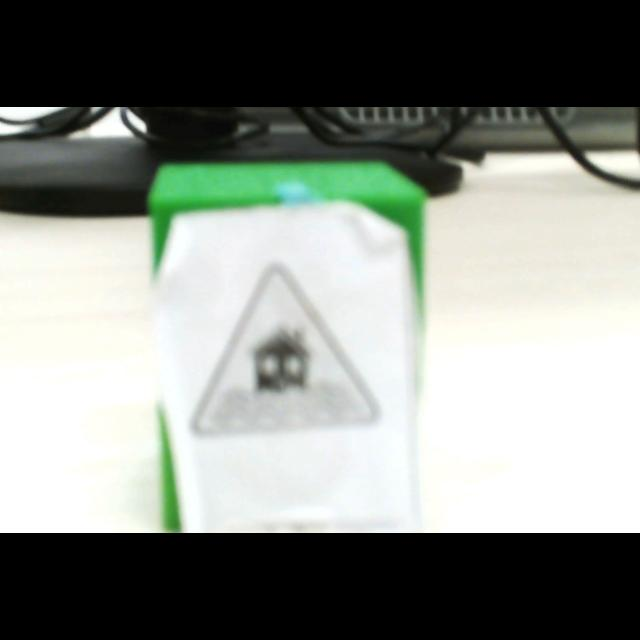Tsunami: (193, 264, 379, 436)
